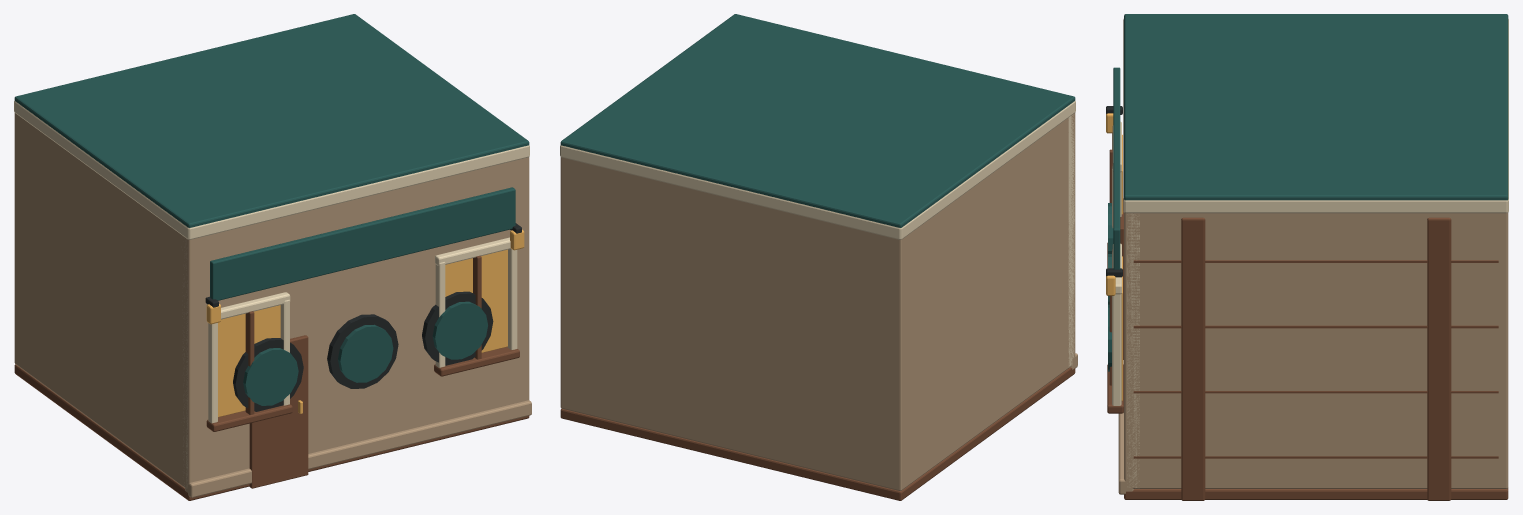
The picture shows the model from 3 angles, left to right: view 1: azimuth 30°, elevation 25°; view 2: azimuth 150°, elevation 25°; view 3: azimuth 270°, elevation 25°; orthographic projection. The views are drawn at different scales.
Visible parts, largest first — view 1: ClosedSupportingVolume, Roof_RemoveForInteriorReview, NQ-SGN-11, WalnutDoorLeaf, PlinthBand, CreamRoofCornice, WindowGraphicProxy, WindowGraphicProxy.001, Floor, WasherInnerDisc.002, WasherInnerDisc.001, WasherInnerDisc (+12 smaller); view 2: ClosedSupportingVolume, Roof_RemoveForInteriorReview, Floor, CreamRoofCornice.001, CreamSideCornice, CornerTrim; view 3: ClosedSupportingVolume, Roof_RemoveForInteriorReview, SideBrickPilaster.001, SideBrickPilaster, CreamSideCornice.001, Floor, CornerTrim.001, NQ-SGN-11, SideMasonryCourse.002, WindowJamb.003, SideMasonryCourse, SideMasonryCourse.003 (+2 smaller).
Part boxes in pixels (<box>): ClosedSupportingVolume: <box>14,113,529,489</box>; Roof_RemoveForInteriorReview: <box>14,14,529,227</box>; NQ-SGN-11: <box>210,187,515,300</box>; WalnutDoorLeaf: <box>249,335,308,488</box>; PlinthBand: <box>185,400,531,497</box>; CreamRoofCornice: <box>189,145,529,239</box>; WindowGraphicProxy: <box>218,305,280,417</box>; WindowGraphicProxy.001: <box>445,249,507,352</box>; Floor: <box>14,364,529,500</box>; WasherInnerDisc.002: <box>432,301,487,359</box>; WasherInnerDisc.001: <box>338,324,393,382</box>; WasherInnerDisc: <box>243,348,298,405</box>; ClosedSupportingVolume: <box>560,113,1075,490</box>; Roof_RemoveForInteriorReview: <box>560,14,1075,227</box>; Floor: <box>560,367,1075,500</box>; CreamRoofCornice.001: <box>560,145,900,239</box>; CreamSideCornice: <box>901,100,1075,239</box>; CornerTrim: <box>1068,114,1074,367</box>; ClosedSupportingVolume: <box>1124,213,1508,488</box>; Roof_RemoveForInteriorReview: <box>1124,14,1508,200</box>; SideBrickPilaster.001: <box>1427,217,1451,500</box>; SideBrickPilaster: <box>1181,217,1205,500</box>; CreamSideCornice.001: <box>1124,200,1507,213</box>; Floor: <box>1124,488,1508,499</box>; CornerTrim.001: <box>1127,213,1139,488</box>; NQ-SGN-11: <box>1113,67,1120,269</box>; SideMasonryCourse.002: <box>1133,325,1498,328</box>; WindowJamb.003: <box>1112,294,1121,405</box>; SideMasonryCourse: <box>1133,456,1498,458</box>; SideMasonryCourse.003: <box>1133,260,1498,262</box>.
Bounding box in the file's own units: 18.12 × 14 × 16.77.
